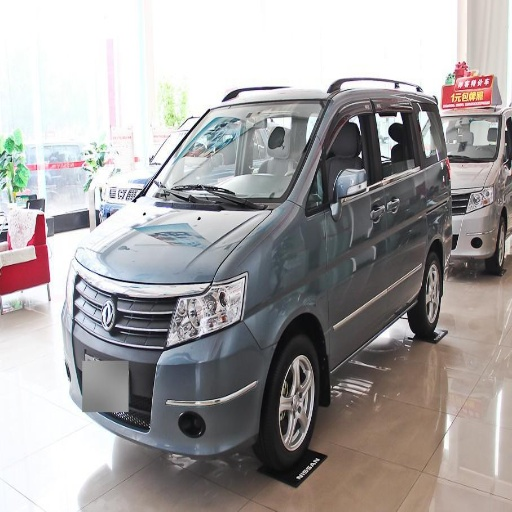front_bumper: (73, 267, 276, 457)
front_glass: (141, 104, 327, 209)
front_left_door: (305, 95, 390, 357)
